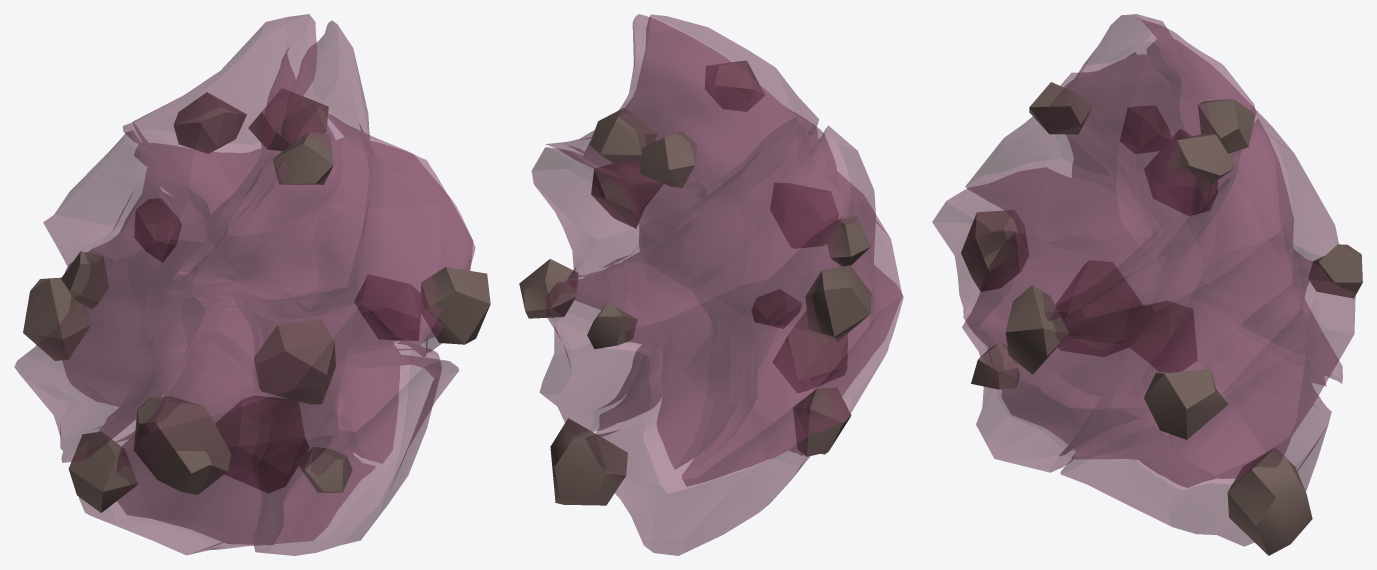
The model's file is p_mesh_hvs_gold_destruct_dissolve.fbx.
The picture shows the model from 3 angles, left to right: view 1: azimuth 30°, elevation 25°; view 2: azimuth 150°, elevation 25°; view 3: azimuth 270°, elevation 25°; orthographic projection. The views are drawn at different scales.
Parts seen in each view (by area): view 1: rock2.002; view 2: rock2.002; view 3: rock2.002.
Part boxes in pixels (x1,y1,x2,y2): rock2.002: (14, 14, 490, 555); rock2.002: (519, 14, 903, 555); rock2.002: (932, 14, 1362, 555).
Bounding box in the file's own units: 7.29 × 9.53 × 7.01.
